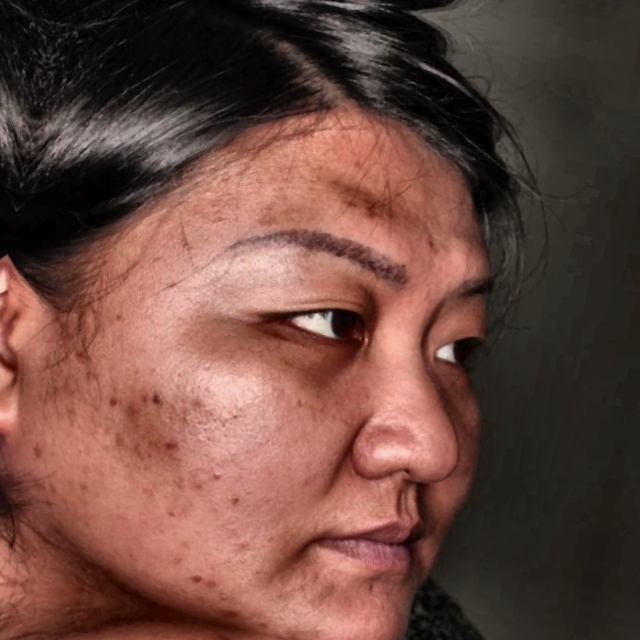comedone: (188, 566, 224, 599)
